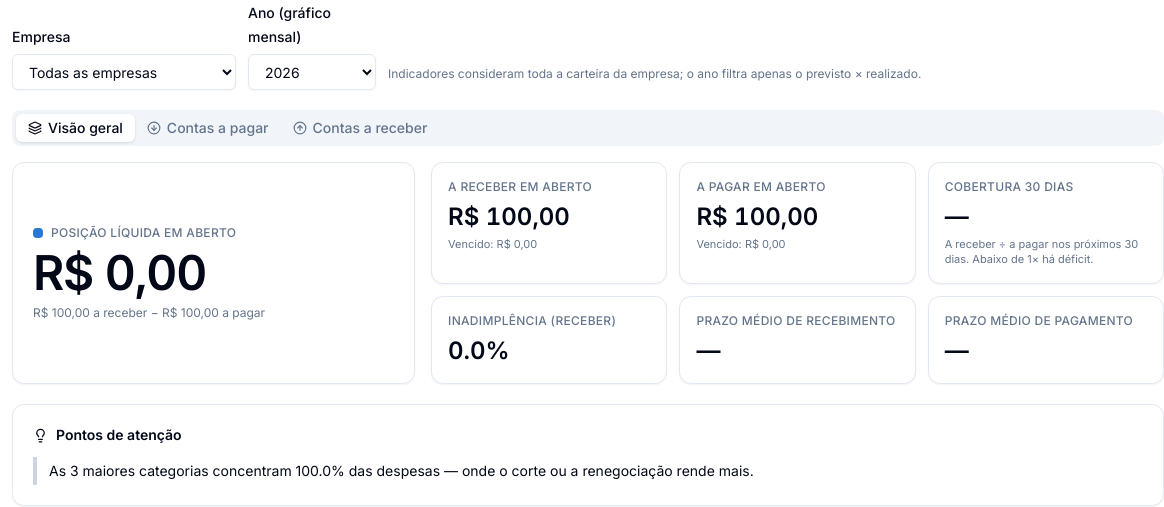
Test case: Análise Gerencial — tipografia consistente entre seções › 07 painéis de Contas a Pagar e Contas a Receber usam os mesmos tokens de tipografia da visão geral
What coordinates should you click on to do the following:
click the tab "Contas a pagar"
I would click on:
 (208, 128)
Its box is [135,114,281,142].
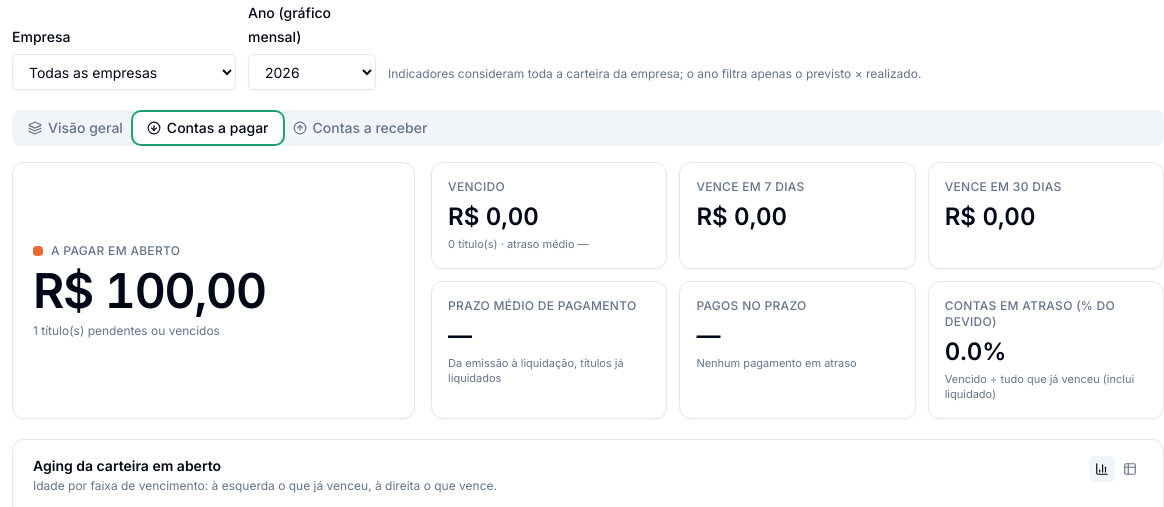
Expected: the text "Vencido" is shown, [448,179,505,194]
